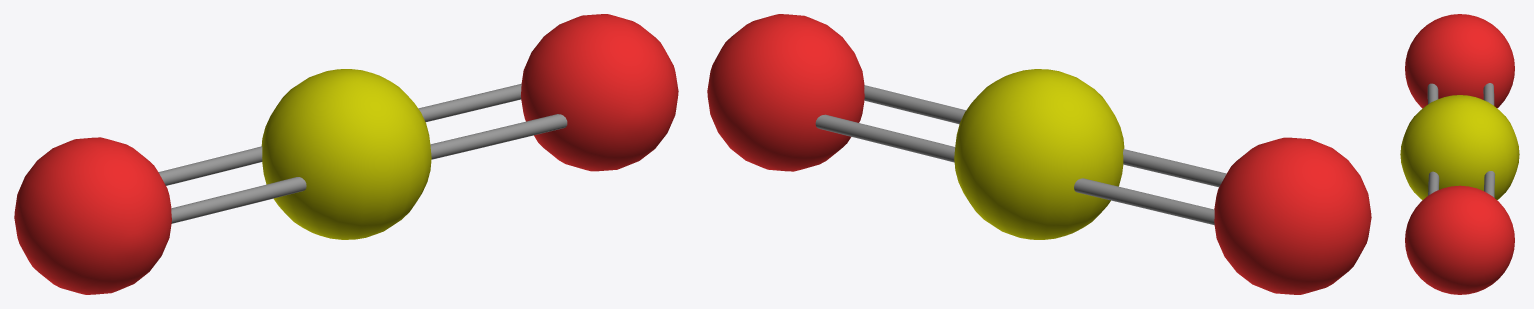
The picture shows the model from 3 angles, left to right: view 1: azimuth 30°, elevation 25°; view 2: azimuth 150°, elevation 25°; view 3: azimuth 270°, elevation 25°; orthographic projection. The views are drawn at different scales.
Visible parts, largest first — view 1: SO2; view 2: SO2; view 3: SO2.
Part boxes in pixels (bbox=[...]): SO2: bbox=[14, 14, 678, 294]; SO2: bbox=[707, 14, 1371, 294]; SO2: bbox=[1400, 14, 1519, 294].
Bounding box in the file's own units: 8.67 × 2 × 2.
